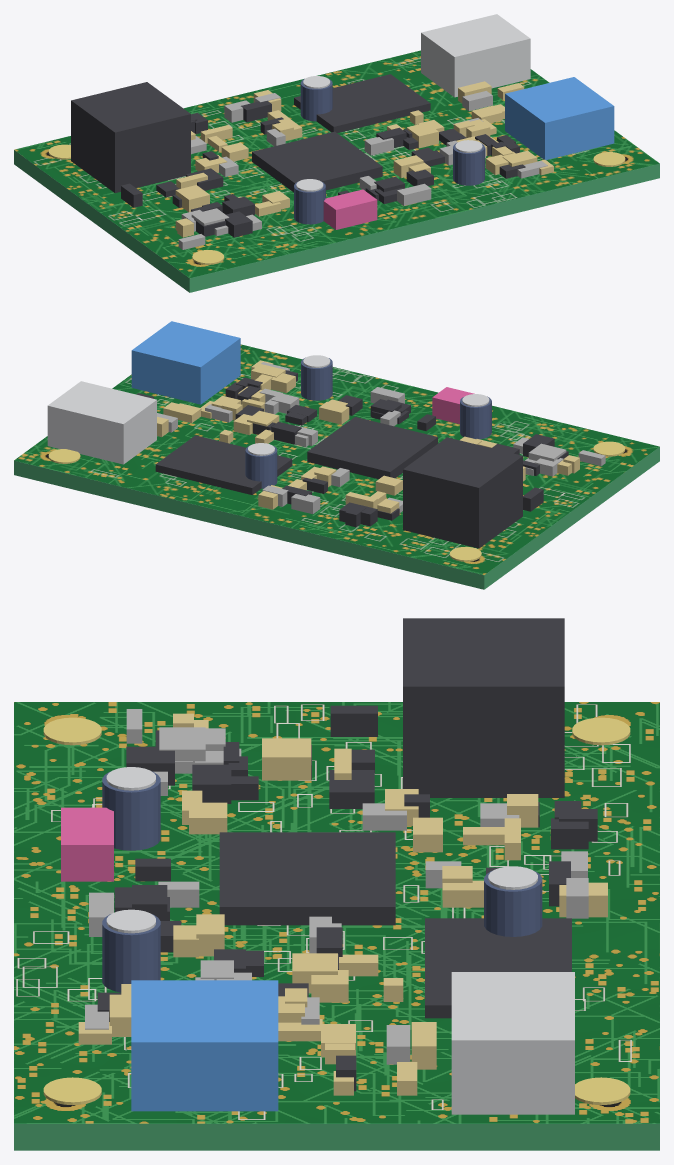
3 views of the same model, one above another, from view 1: azimuth 30°, elevation 25°; view 2: azimuth 150°, elevation 25°; view 3: azimuth 270°, elevation 25° (orthographic). The views are drawn at different scales.
Visible parts, largest first — view 1: pcb_top, ic, pcb_body, tan, silver, blue, res, cap, pink, gold; view 2: pcb_top, ic, pcb_body, silver, blue, tan, res, cap, gold, pink; view 3: pcb_top, ic, tan, silver, blue, pcb_body, res, cap, gold, pink.
Part boxes in pixels (<box>): pcb_top: <box>14,50,659,278</box>; ic: <box>71,74,525,237</box>; pcb_body: <box>14,150,659,292</box>; tan: <box>175,81,553,237</box>; silver: <box>296,14,530,191</box>; blue: <box>505,77,614,159</box>; res: <box>178,91,547,249</box>; cap: <box>294,78,484,224</box>; pink: <box>323,189,377,229</box>; gold: <box>48,144,625,264</box>; pcb_top: <box>14,344,659,574</box>; ic: <box>136,370,568,548</box>; pcb_body: <box>14,447,659,589</box>; silver: <box>47,355,489,464</box>; blue: <box>131,321,240,404</box>; tan: <box>157,360,579,513</box>; res: <box>157,362,605,514</box>; cap: <box>245,357,491,488</box>; gold: <box>48,441,625,561</box>; pink: <box>432,387,474,424</box>; pcb_top: <box>14,702,659,1123</box>; ic: <box>97,618,597,1091</box>; tan: <box>78,713,607,1095</box>; silver: <box>106,767,574,1114</box>; blue: <box>131,980,278,1111</box>; pcb_body: <box>14,1123,659,1150</box>; res: <box>85,709,588,1064</box>; cap: <box>102,771,542,992</box>; gold: <box>43,717,630,1105</box>; pink: <box>61,807,113,881</box>.
Size of the model in its own units: 3.4 by 0.52 by 2.2.
Materials: 10 (1 with a texture image).
